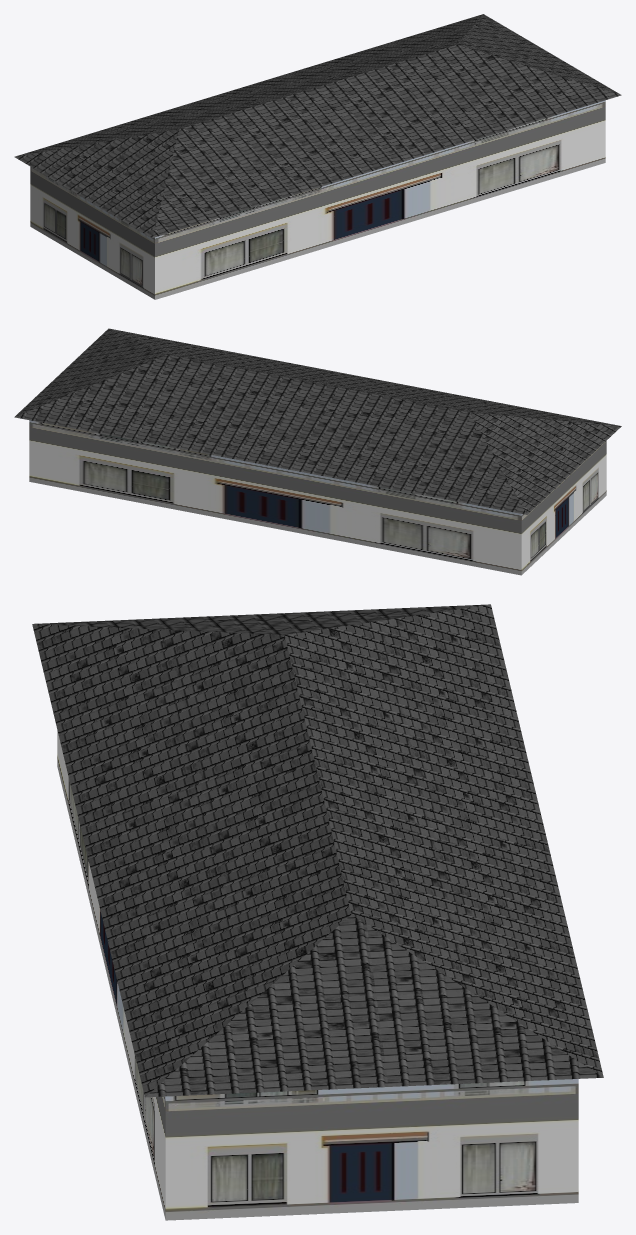
3 views of the same model, one above another, from view 1: azimuth 30°, elevation 25°; view 2: azimuth 150°, elevation 25°; view 3: azimuth 270°, elevation 25° (orthographic). The views are drawn at different scales.
Parts seen in each view (by area): view 1: CityEngineMaterial_8_m, CityEngineMaterial_7_m; view 2: CityEngineMaterial_8_m, CityEngineMaterial_7_m; view 3: CityEngineMaterial_8_m, CityEngineMaterial_7_m.
Boxes of the visible parts, x1,y1,x2,y2 form: CityEngineMaterial_8_m: [14, 14, 621, 237]; CityEngineMaterial_7_m: [30, 100, 605, 299]; CityEngineMaterial_8_m: [14, 328, 621, 514]; CityEngineMaterial_7_m: [29, 420, 606, 575]; CityEngineMaterial_8_m: [32, 604, 603, 1097]; CityEngineMaterial_7_m: [57, 730, 578, 1220].
Bounding box in the file's own units: 47.66 × 9.46 × 23.36.
